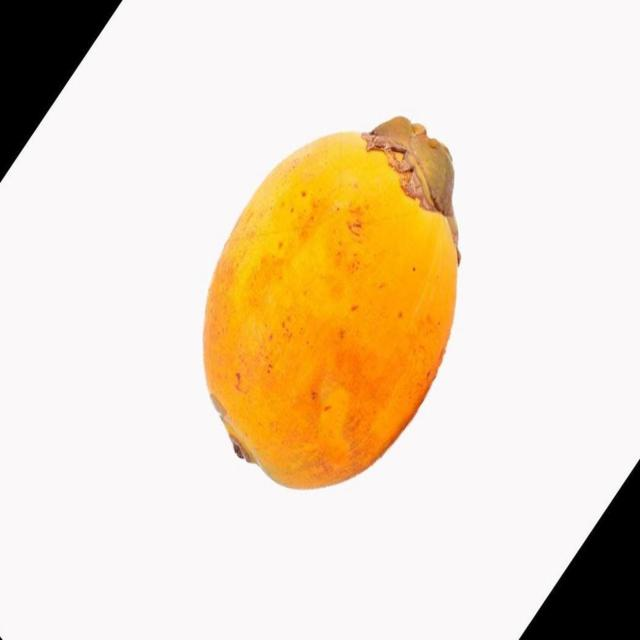good: (201, 118, 461, 493)
